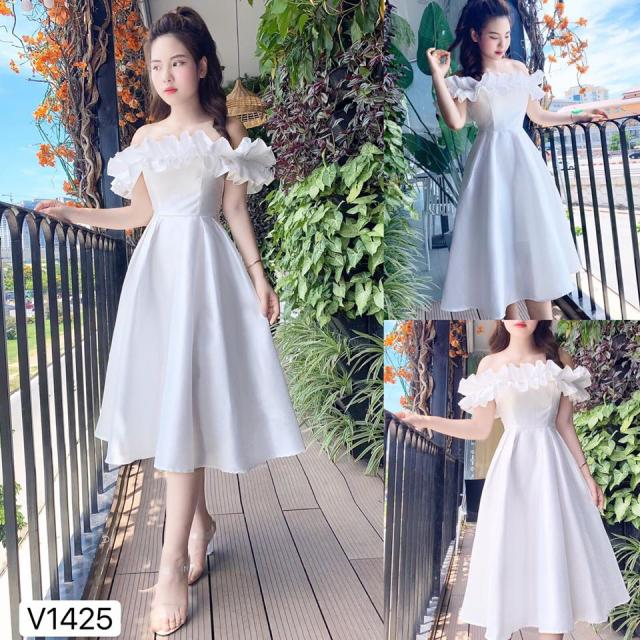clothes: (92, 128, 300, 474), (454, 358, 634, 634), (434, 63, 582, 313)
